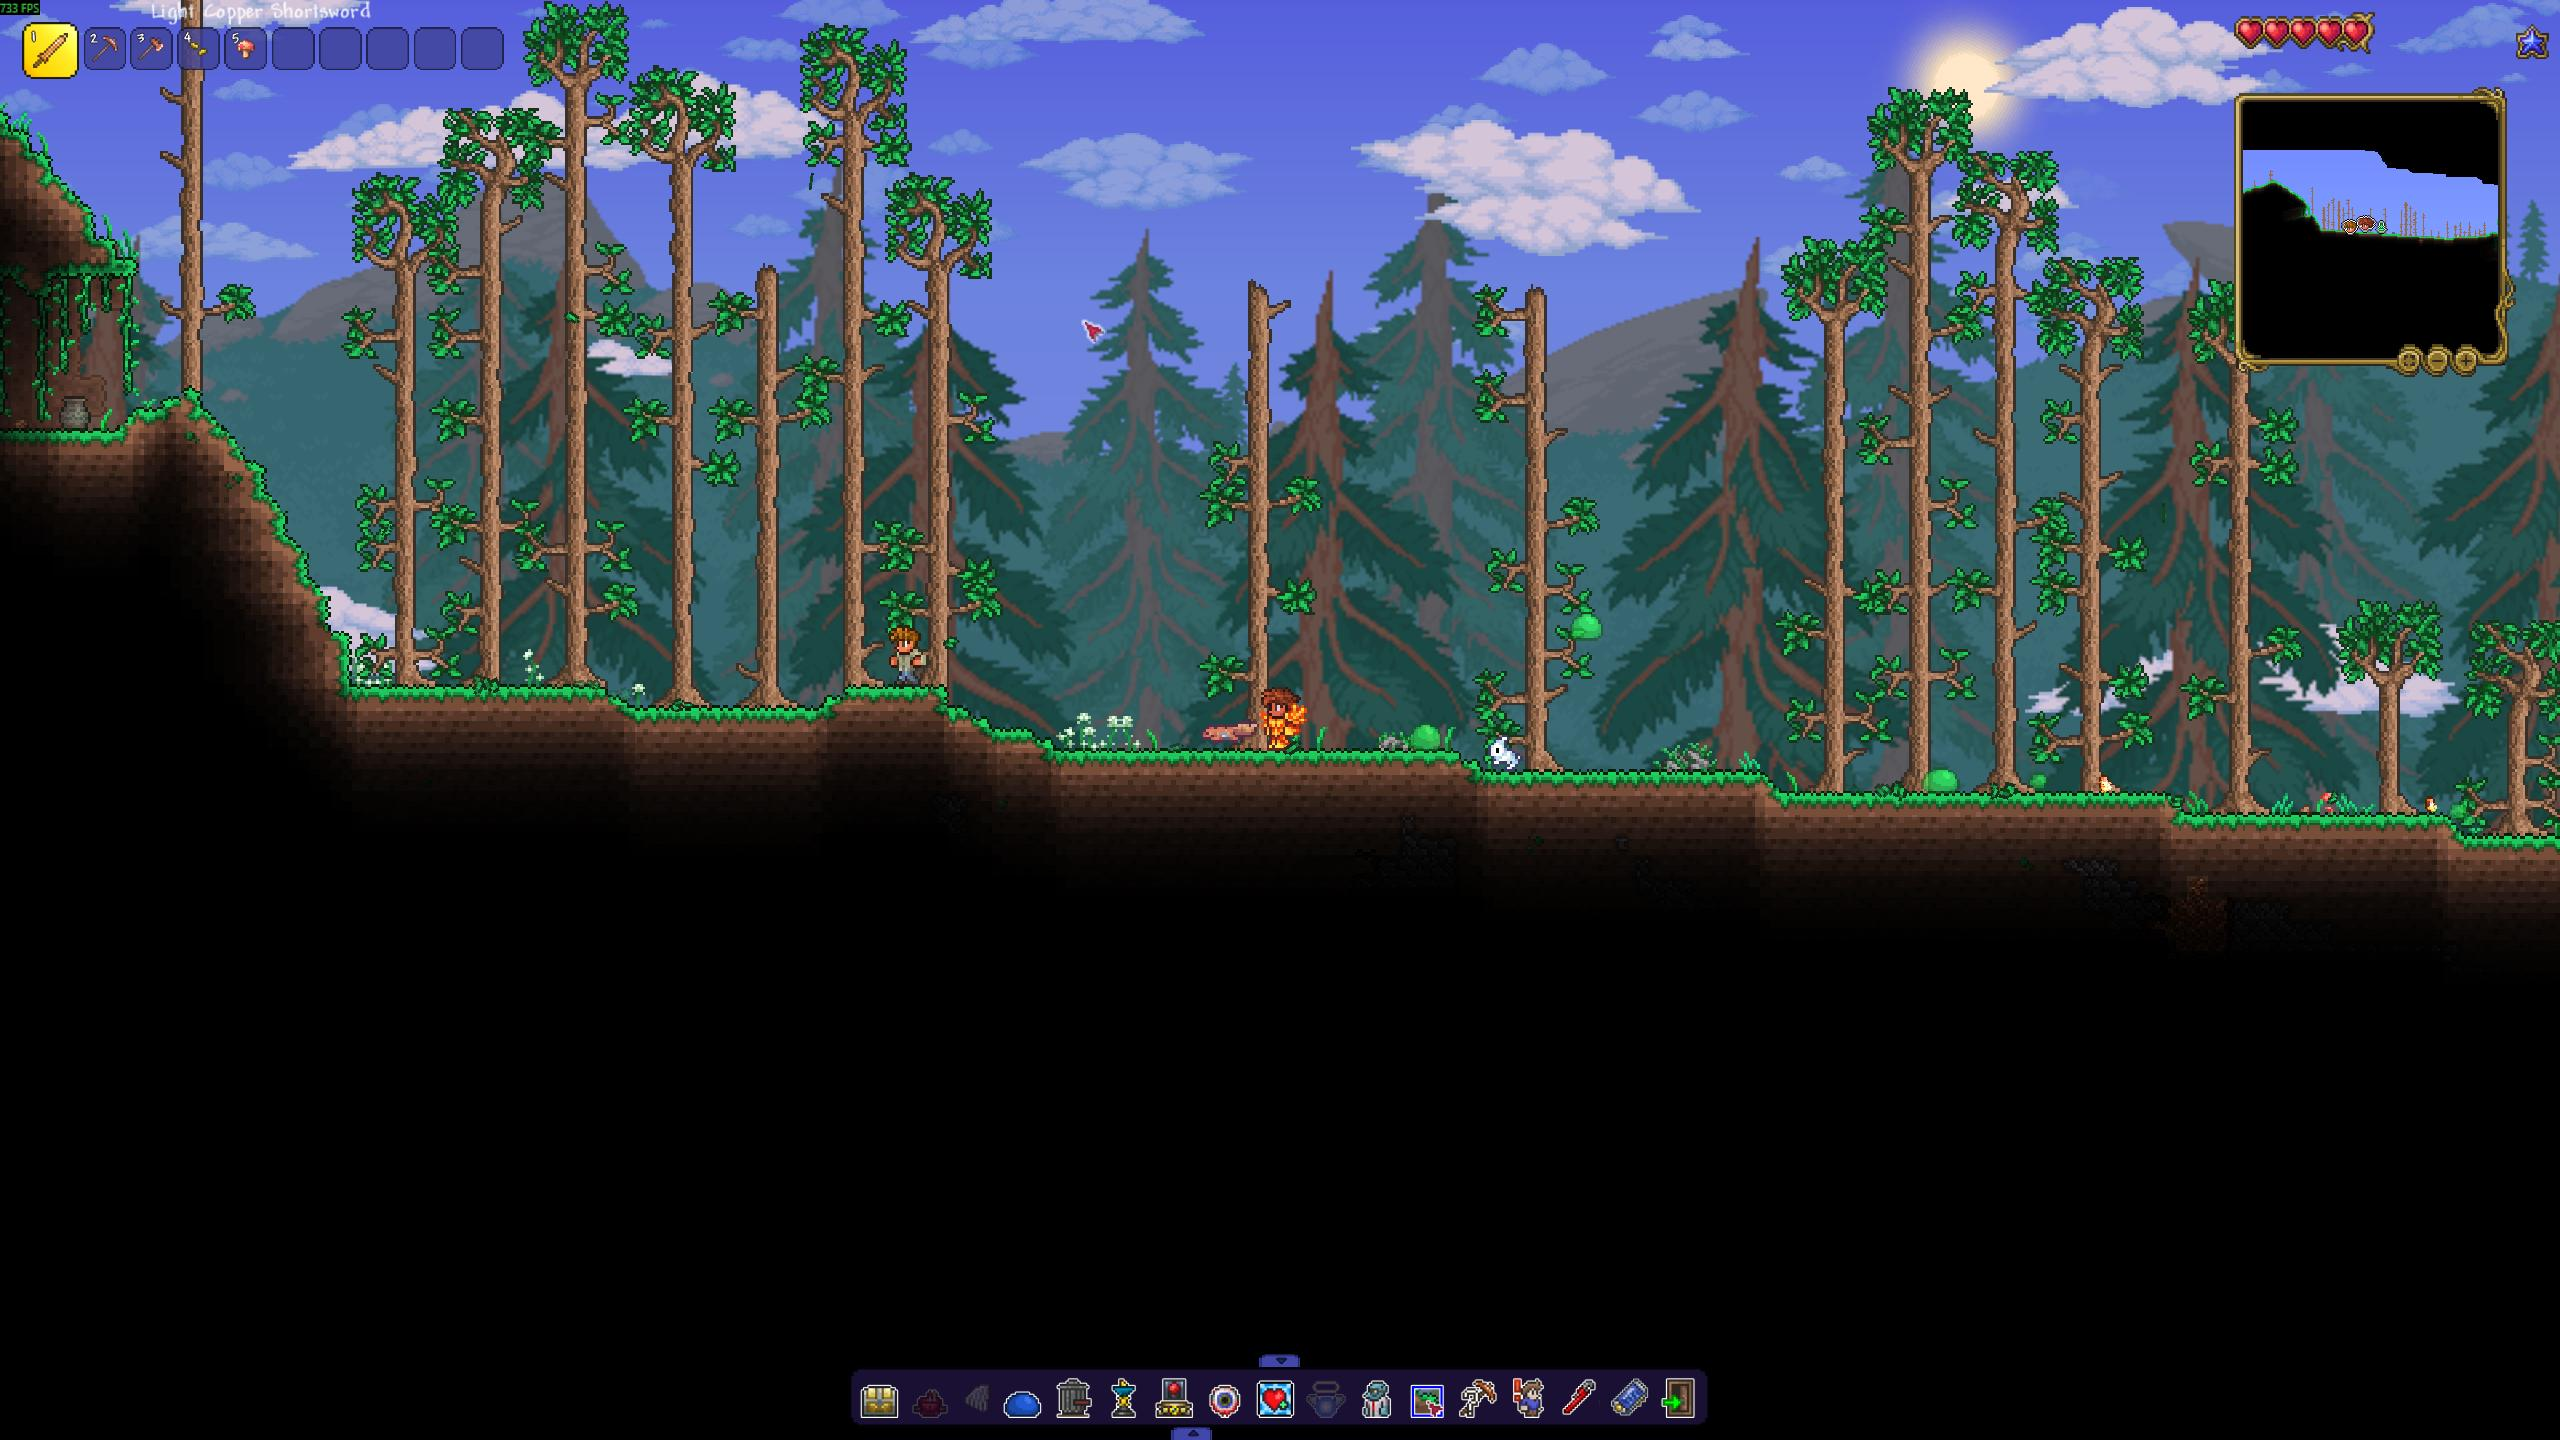Green Slime: (1567, 610, 1607, 642), (1918, 768, 1962, 795), (1407, 724, 1445, 754)
